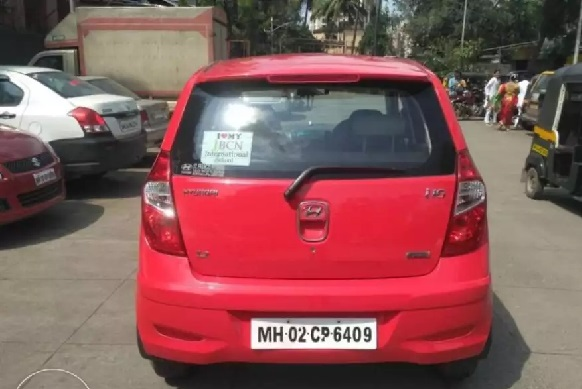licenseplate: (247, 314, 380, 352)
